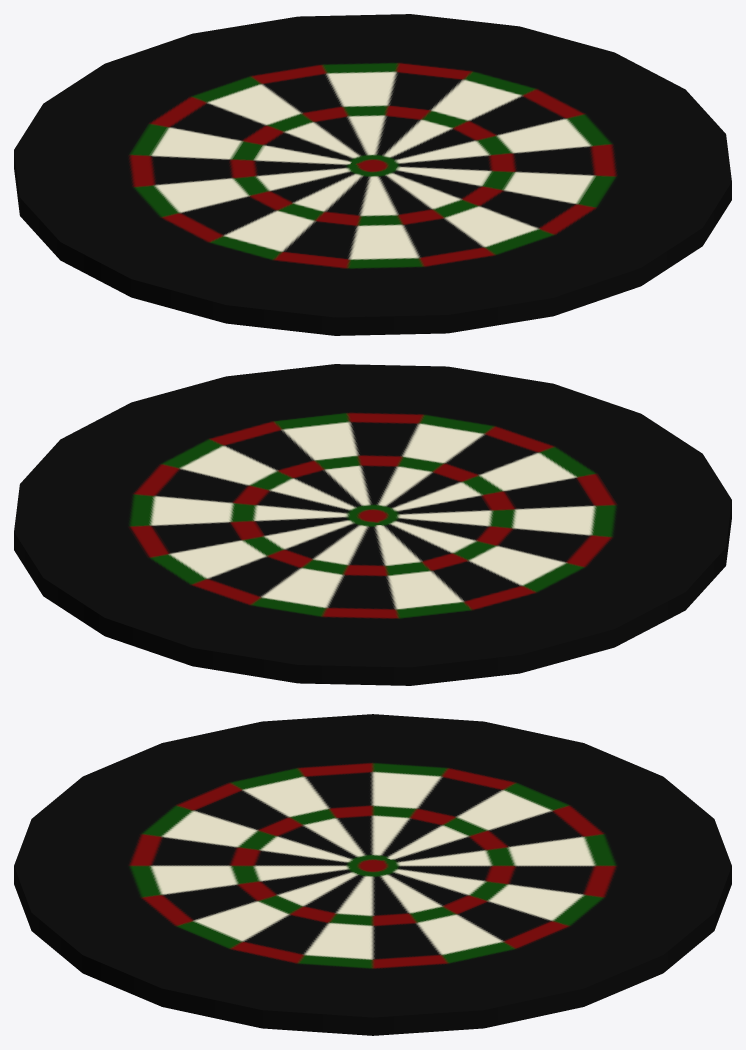
File: Cible.fbx
3 renders of one model, top to bottom at view 1: azimuth 30°, elevation 25°; view 2: azimuth 150°, elevation 25°; view 3: azimuth 270°, elevation 25°, orthographic.
Visible parts, largest first — view 1: Cible_Low; view 2: Cible_Low; view 3: Cible_Low.
Part boxes in pixels (left/top/right/bottom): Cible_Low: left=14, top=14, right=731, bottom=335; Cible_Low: left=14, top=364, right=731, bottom=685; Cible_Low: left=14, top=714, right=731, bottom=1035.
Bounding box in the file's own units: 70.93 × 2 × 70.93.
Materials: 1 (1 with a texture image).
